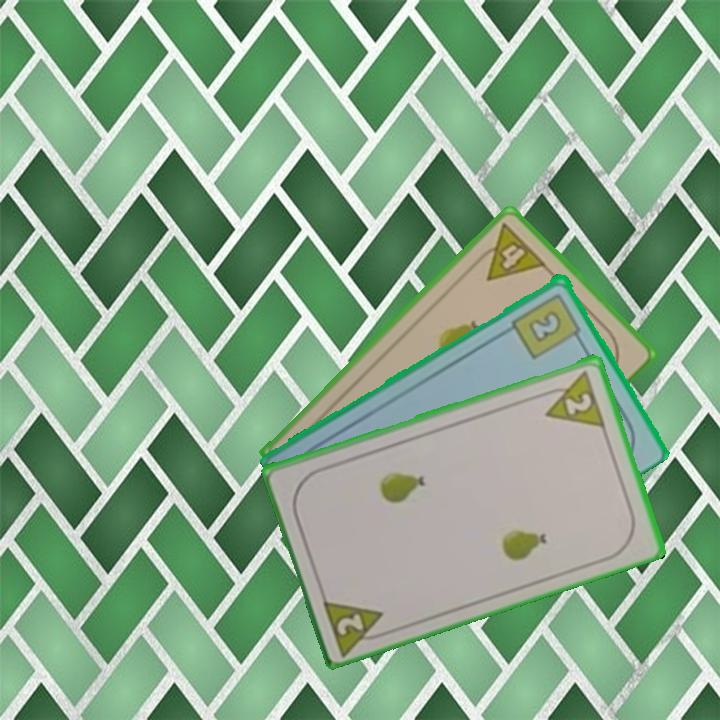2b: (508, 289, 586, 361)
2p: (319, 593, 393, 656), (536, 366, 608, 430)
4p: (468, 219, 549, 284)
